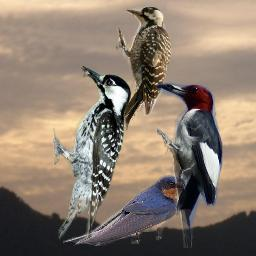Swallow: (63, 174, 190, 246)
Woodpecker: (53, 64, 131, 241), (157, 82, 223, 248), (114, 3, 172, 133)
